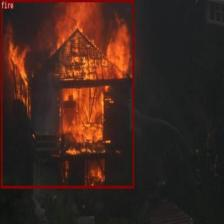fire: (0, 0, 134, 188)
